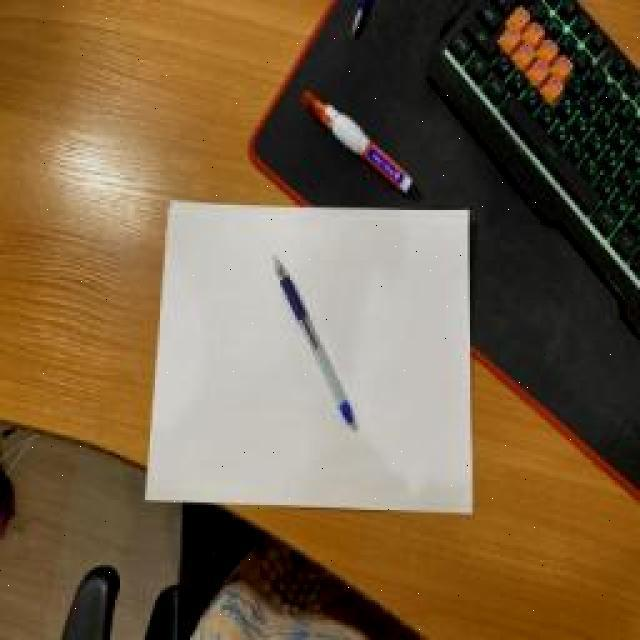pen: (273, 255, 356, 425)
